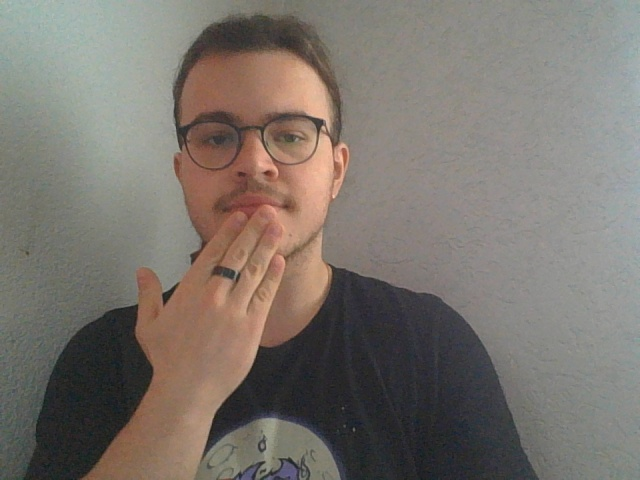ThankYou: (130, 202, 289, 480)
